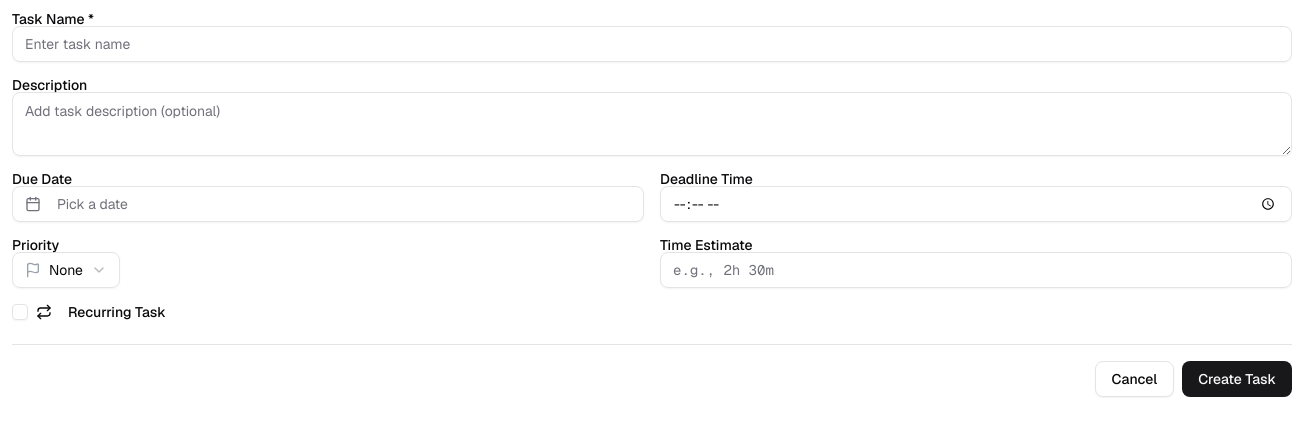
TaskForm Component › shows validation error for empty task name
Click the button "Create Task" at (1237, 379), box [1182, 361, 1292, 397]
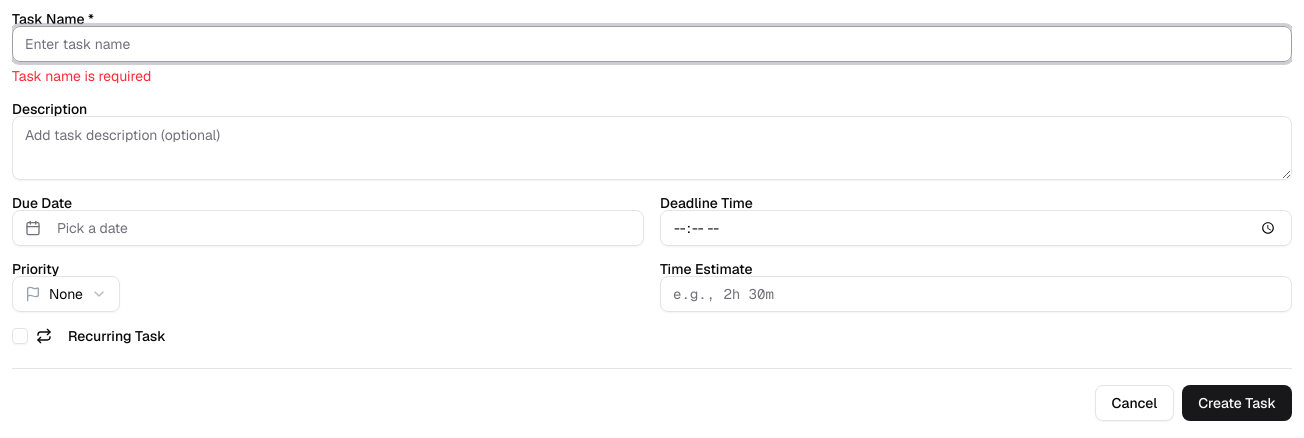
Expected: the text "Task name is required" is shown, [12, 67, 151, 85]
